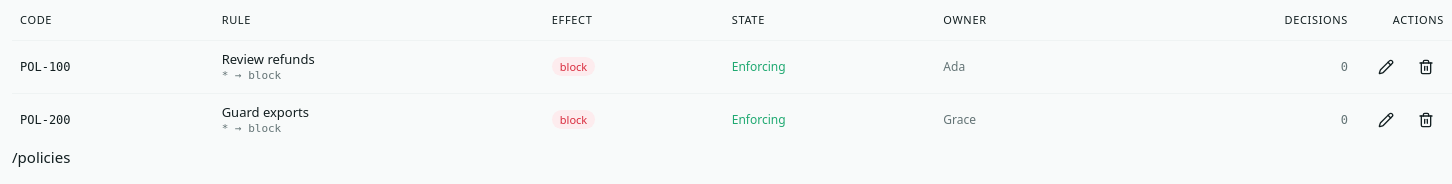
Test: policy list actions › opens the selected policy from the edit button
Click the link named "Edit Guard exports": click(1386, 120) [1378,112,1394,128]
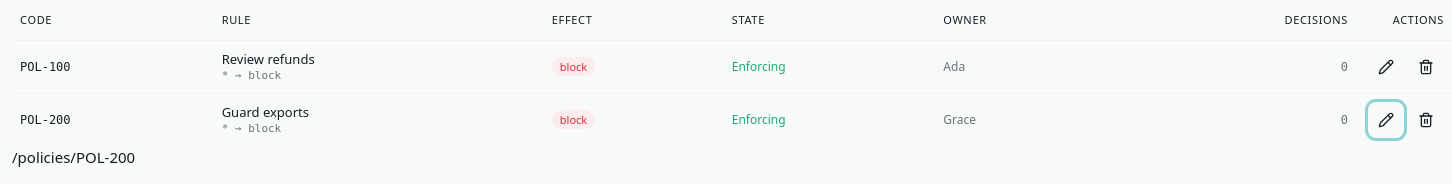
Expected: the text with test id "location" reads "/policies/POL-200", [12,146,135,166]
